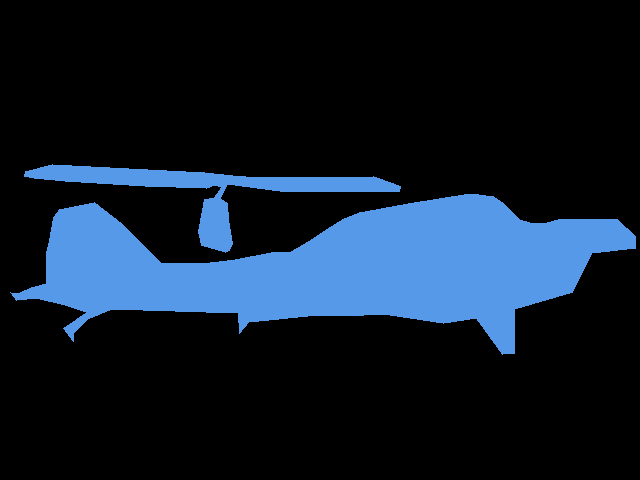Airplane: (10, 194, 635, 355), (24, 164, 401, 252)
